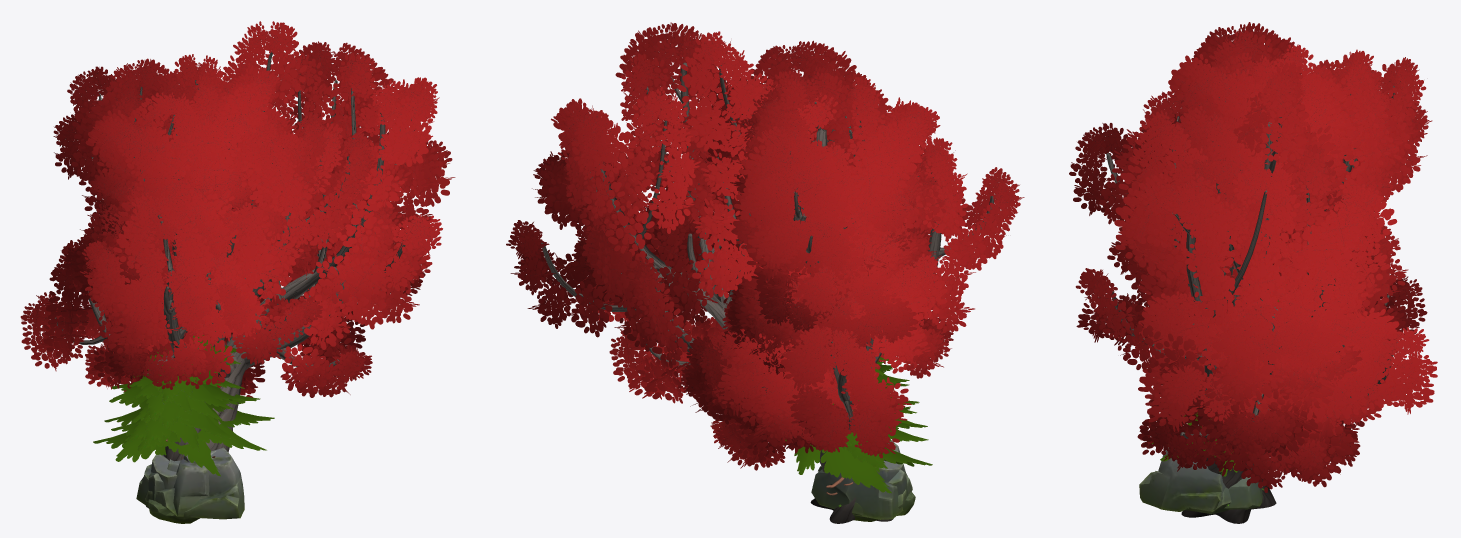
Rendered from nature-lite.glb.
3 views of the same model, side by side, from view 1: azimuth 30°, elevation 25°; view 2: azimuth 150°, elevation 25°; view 3: azimuth 270°, elevation 25° (orthographic). The views are drawn at different scales.
Visible parts, largest first — view 1: TwistedTree_3, TwistedTree_1, TwistedTree_5, Pine_5, Rock_Medium_3, Pine_1, Rock_Medium_1, Pine_3, Rock_Medium_2; view 2: TwistedTree_1, TwistedTree_3, TwistedTree_5, Pine_5, Rock_Medium_2, Pine_1; view 3: TwistedTree_1, TwistedTree_3, TwistedTree_5, Rock_Medium_3, Rock_Medium_2.
Part boxes in pixels (left/top/right/bottom): TwistedTree_3: left=20, top=54, right=377, bottom=460; TwistedTree_1: left=106, top=21, right=455, bottom=508; TwistedTree_5: left=60, top=58, right=330, bottom=460; Pine_5: left=93, top=336, right=274, bottom=476; Rock_Medium_3: left=148, top=447, right=244, bottom=523; Pine_1: left=111, top=335, right=245, bottom=457; Rock_Medium_1: left=145, top=451, right=215, bottom=516; Pine_3: left=119, top=335, right=235, bottom=439; Rock_Medium_2: left=136, top=454, right=177, bottom=506; TwistedTree_1: left=506, top=22, right=929, bottom=523; TwistedTree_3: left=678, top=40, right=1024, bottom=470; TwistedTree_5: left=706, top=67, right=949, bottom=378; Pine_5: left=785, top=357, right=932, bottom=493; Rock_Medium_2: left=811, top=461, right=903, bottom=519; Pine_1: left=826, top=359, right=928, bottom=488; TwistedTree_1: left=1075, top=62, right=1437, bottom=523; TwistedTree_3: left=1069, top=28, right=1432, bottom=480; TwistedTree_5: left=1133, top=22, right=1426, bottom=319; Rock_Medium_3: left=1139, top=447, right=1225, bottom=511; Rock_Medium_2: left=1224, top=477, right=1262, bottom=509.
Size of the model in its own units: 15.83 by 16.84 by 11.71.
Materials: 11 (11 with a texture image).
